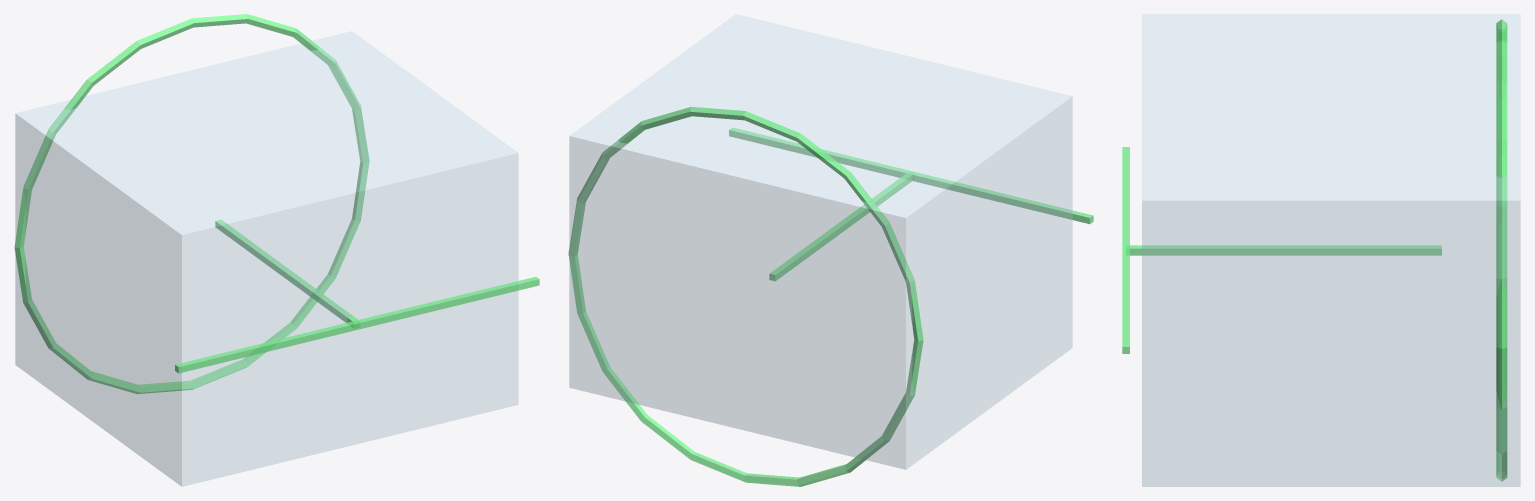
Rendered from 03_capsule_collider_helper.glb.
3 renders of one model, left to right at view 1: azimuth 30°, elevation 25°; view 2: azimuth 150°, elevation 25°; view 3: azimuth 270°, elevation 25°, orthographic. The views are drawn at different scales.
Visible parts, largest first — view 1: transparent_volume, helper_ring, axis_x, axis_z; view 2: transparent_volume, helper_ring, axis_x, axis_z; view 3: transparent_volume, helper_ring, axis_z, axis_x.
Part boxes in pixels (bbox=[...]): transparent_volume: bbox=[15, 31, 518, 486]; helper_ring: bbox=[14, 14, 369, 393]; axis_x: bbox=[175, 276, 539, 373]; axis_z: bbox=[215, 219, 359, 328]; transparent_volume: bbox=[569, 14, 1072, 469]; helper_ring: bbox=[568, 106, 923, 486]; axis_x: bbox=[729, 127, 1093, 224]; axis_z: bbox=[769, 172, 913, 281]; transparent_volume: bbox=[1142, 14, 1520, 486]; helper_ring: bbox=[1496, 19, 1507, 481]; axis_z: bbox=[1126, 245, 1441, 255]; axis_x: bbox=[1122, 147, 1129, 353].
Bounding box in the file's own units: 1.5 × 1.48 × 1.26.
